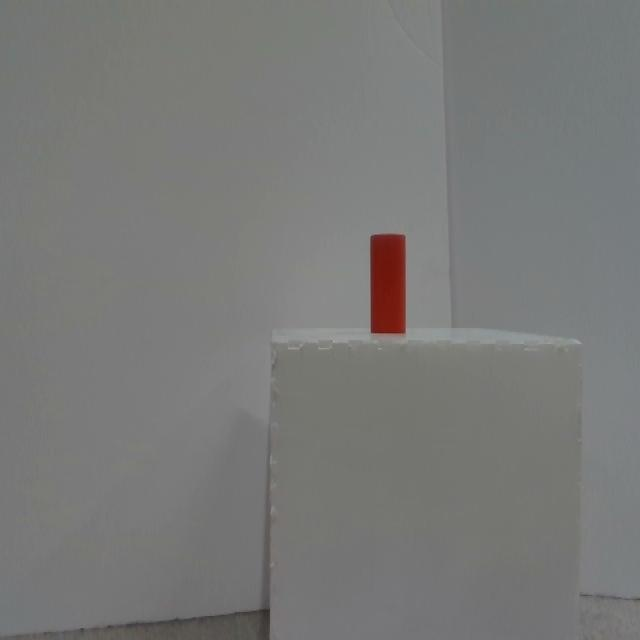red_cylinder: (371, 234, 406, 334)
